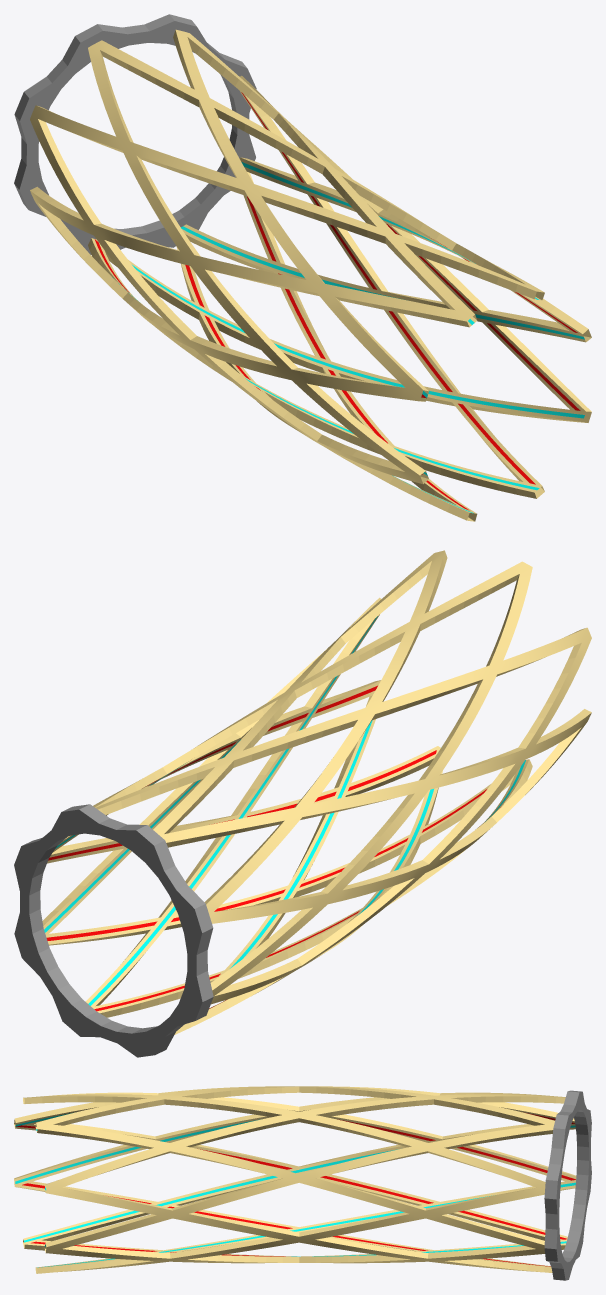
The model's file is SM_Ring_OuterTubing.FBX.
The picture shows the model from 3 angles, top to bottom: view 1: azimuth 30°, elevation 25°; view 2: azimuth 150°, elevation 25°; view 3: azimuth 270°, elevation 25°; orthographic projection. The views are drawn at different scales.
Parts seen in each view (by area): view 1: Torus006; view 2: Torus006; view 3: Torus006.
Part boxes in pixels (left/top/right/bottom): Torus006: left=14, top=14, right=591, bottom=521; Torus006: left=14, top=550, right=591, bottom=1057; Torus006: left=14, top=1086, right=591, bottom=1280.
Size of the model in its own units: 2597 by 2340 by 7425.
